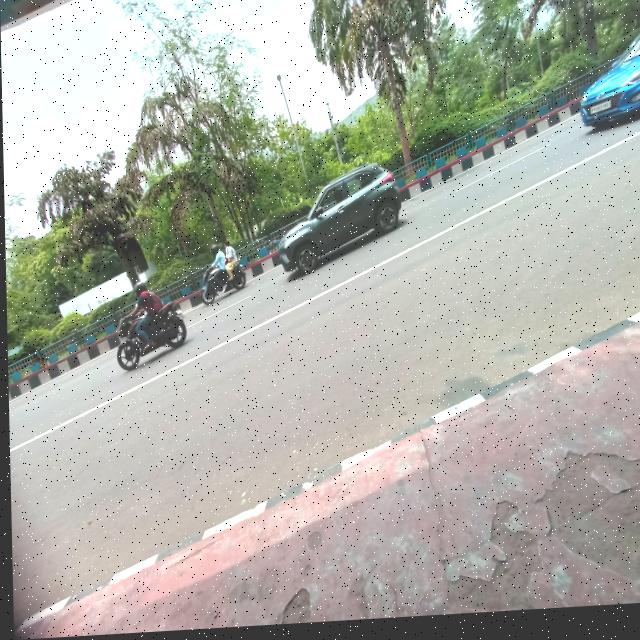bike: (102, 307, 187, 368), (197, 268, 247, 305)
car: (271, 164, 406, 274), (560, 43, 640, 143)
